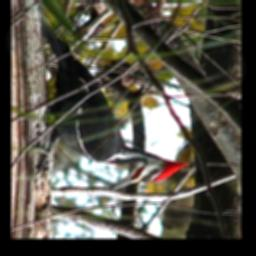Woodpecker: (31, 18, 188, 192)
